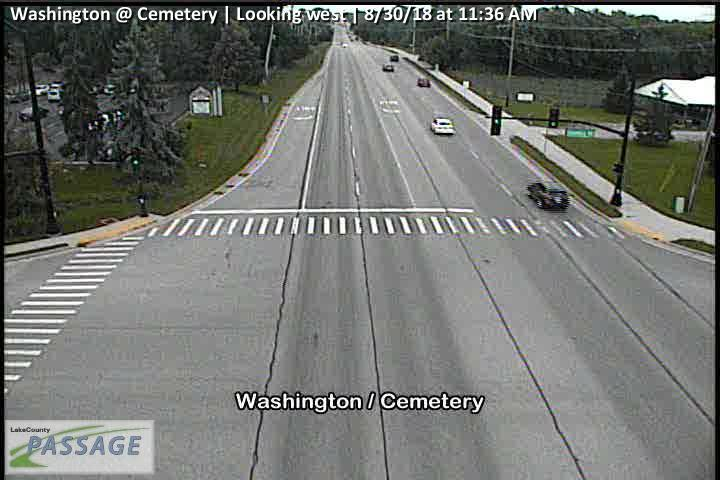SUV: (526, 179, 569, 213), (417, 76, 430, 88), (382, 62, 393, 72), (389, 54, 399, 62)
Sedan: (429, 117, 455, 135)
